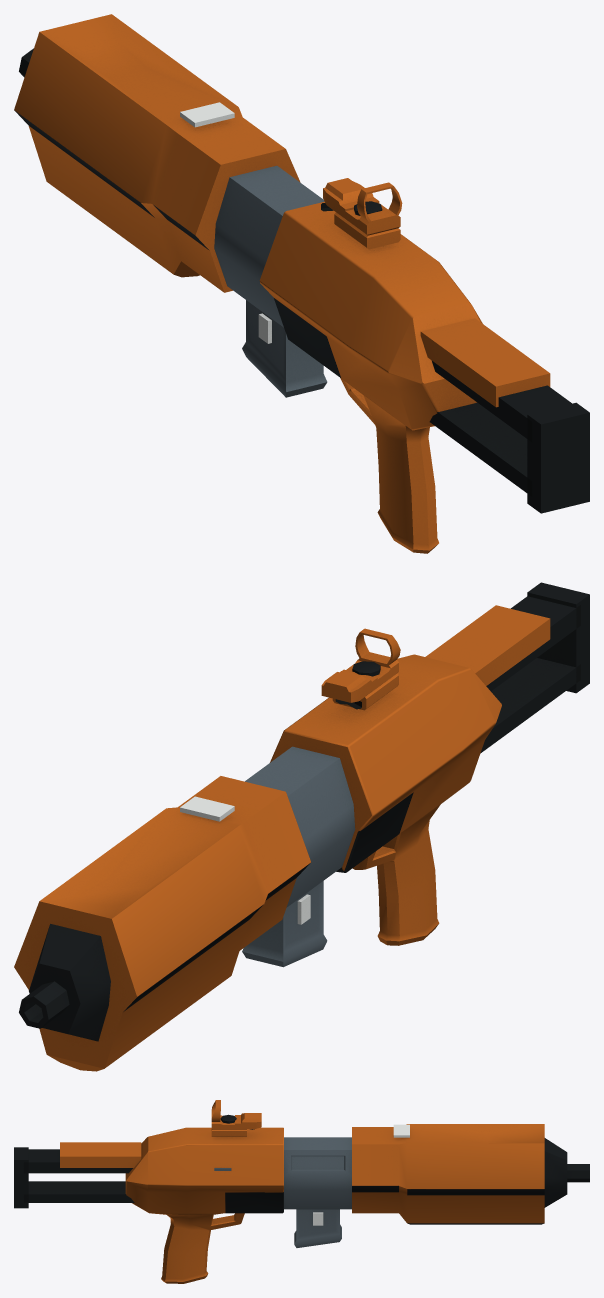
Rendered from assault_rifle.glb.
3 views of the same model, one above another, from view 1: azimuth 30°, elevation 25°; view 2: azimuth 150°, elevation 25°; view 3: azimuth 270°, elevation 25° (orthographic). The views are drawn at different scales.
Visible parts, largest first — view 1: assault_rifle, InsertedAmmo; view 2: assault_rifle, InsertedAmmo; view 3: assault_rifle, InsertedAmmo.
Boxes of the visible parts, box(x1,y1,x2,y2) form: assault_rifle: box(14, 14, 589, 553); InsertedAmmo: box(242, 300, 327, 397); assault_rifle: box(14, 582, 589, 1071); InsertedAmmo: box(242, 881, 327, 967); assault_rifle: box(14, 1100, 589, 1283); InsertedAmmo: box(294, 1209, 341, 1247).
Size of the model in its own units: 0.119 by 0.3036 by 0.8899.
Materials: 1 (1 with a texture image).
